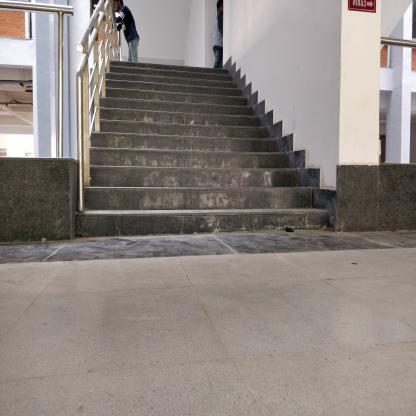stairs: (112, 67, 227, 246)
